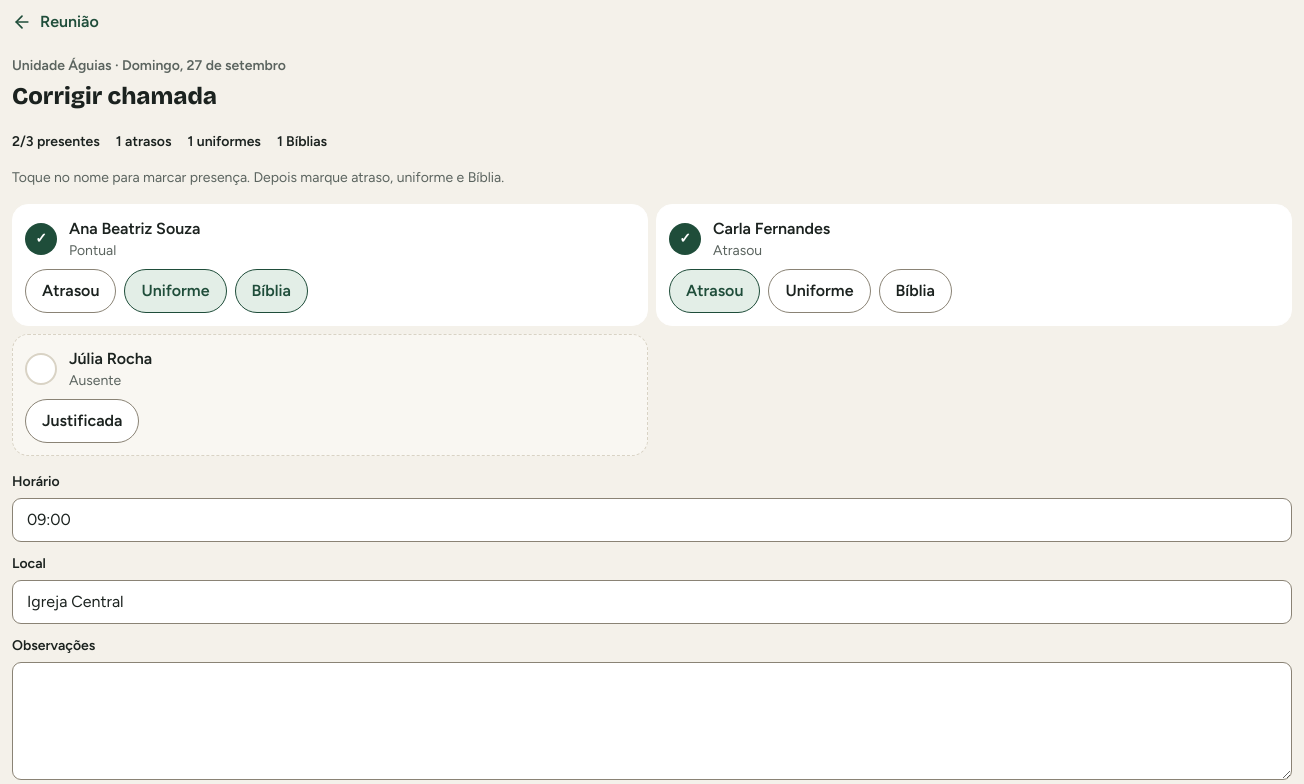
Test: corrigir chamada (Adm) › recusa da API fica na tela
Click the button "✓ Júlia Rocha Ausente": [41, 369] box [25,347,635,391]
(page scrolled)
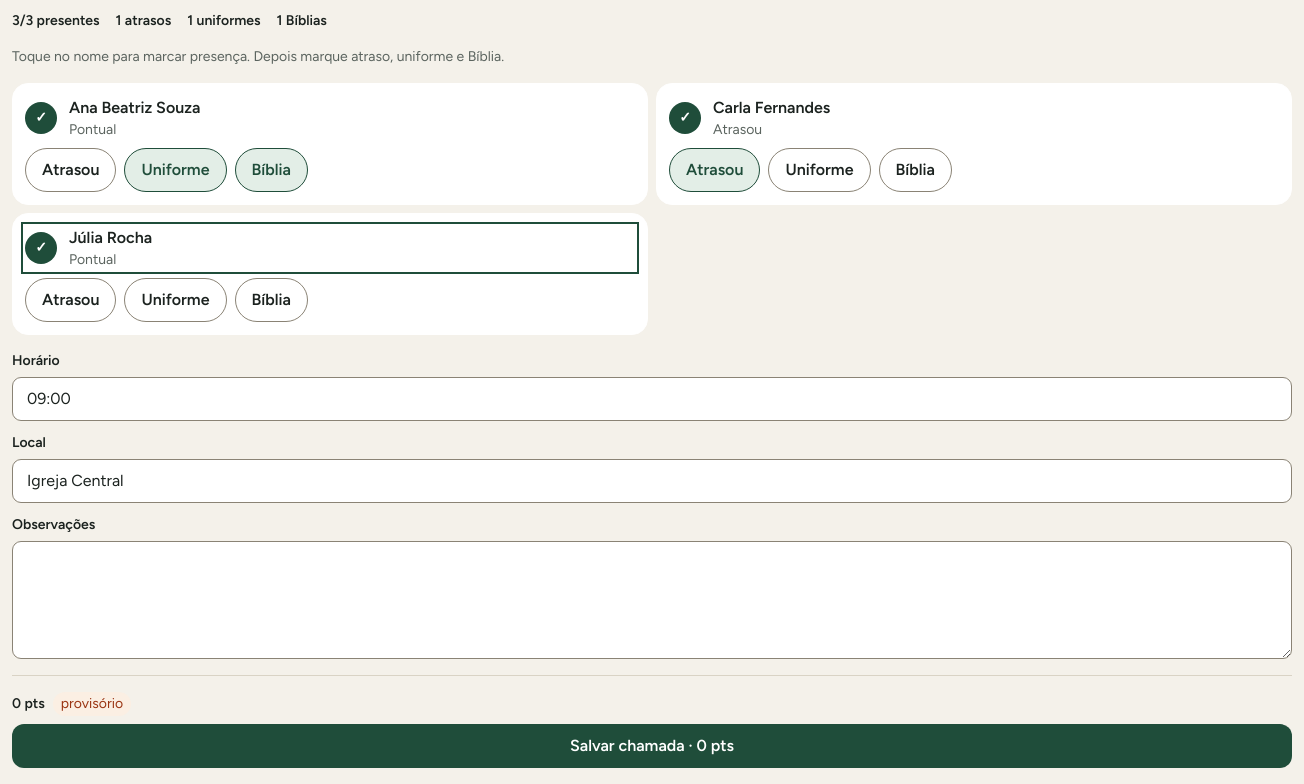
Click the button "Salvar chamada · 0 pts": [652, 746] box [12,724,1292,768]
(page scrolled)
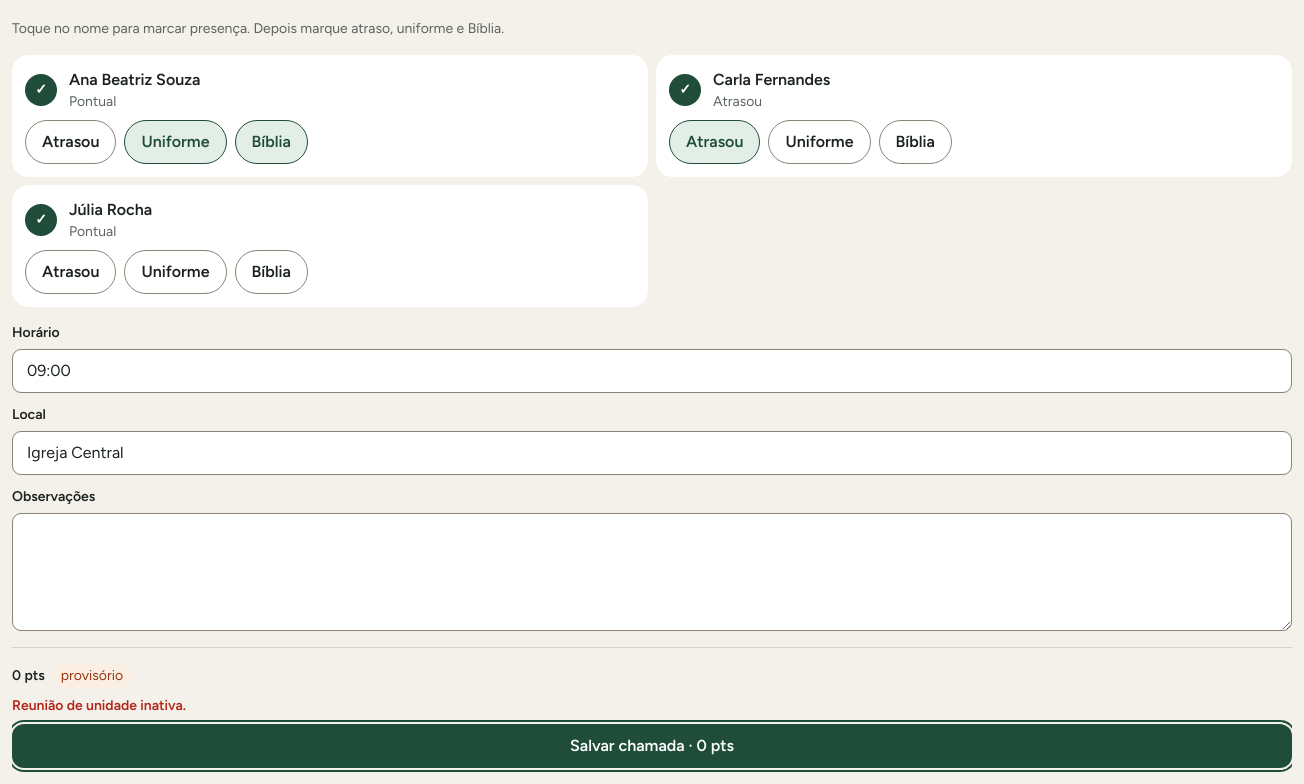
Expected: the button "Salvar chamada · 0 pts" is enabled, [12,724,1292,768]
Expected: the text "Reunião de unidade inativa." is shown, [12,697,186,714]
